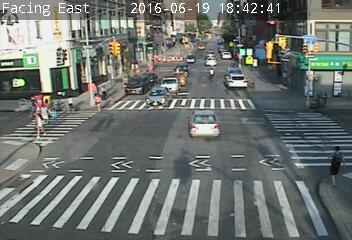neg: (220, 101, 292, 197), (69, 139, 137, 230), (28, 35, 52, 66), (1, 36, 21, 65), (203, 114, 222, 140), (189, 106, 206, 129)
pos: (319, 143, 351, 189), (87, 90, 106, 116), (61, 91, 80, 116), (98, 82, 111, 100)
